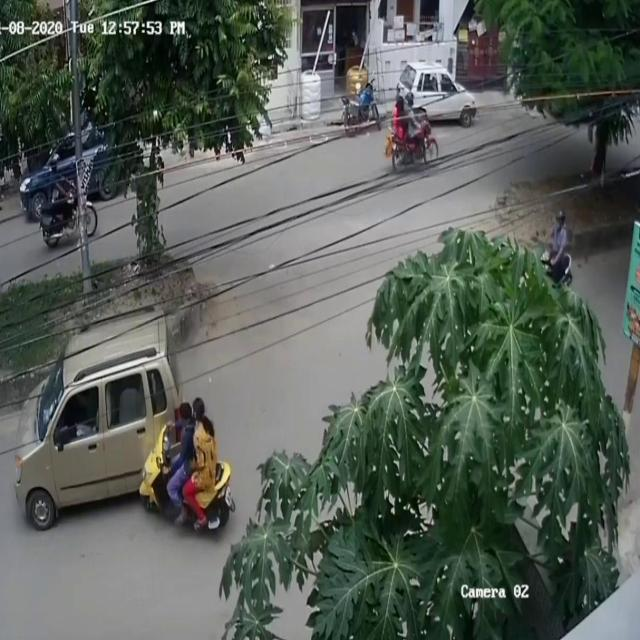accident: (1, 288, 243, 560)
